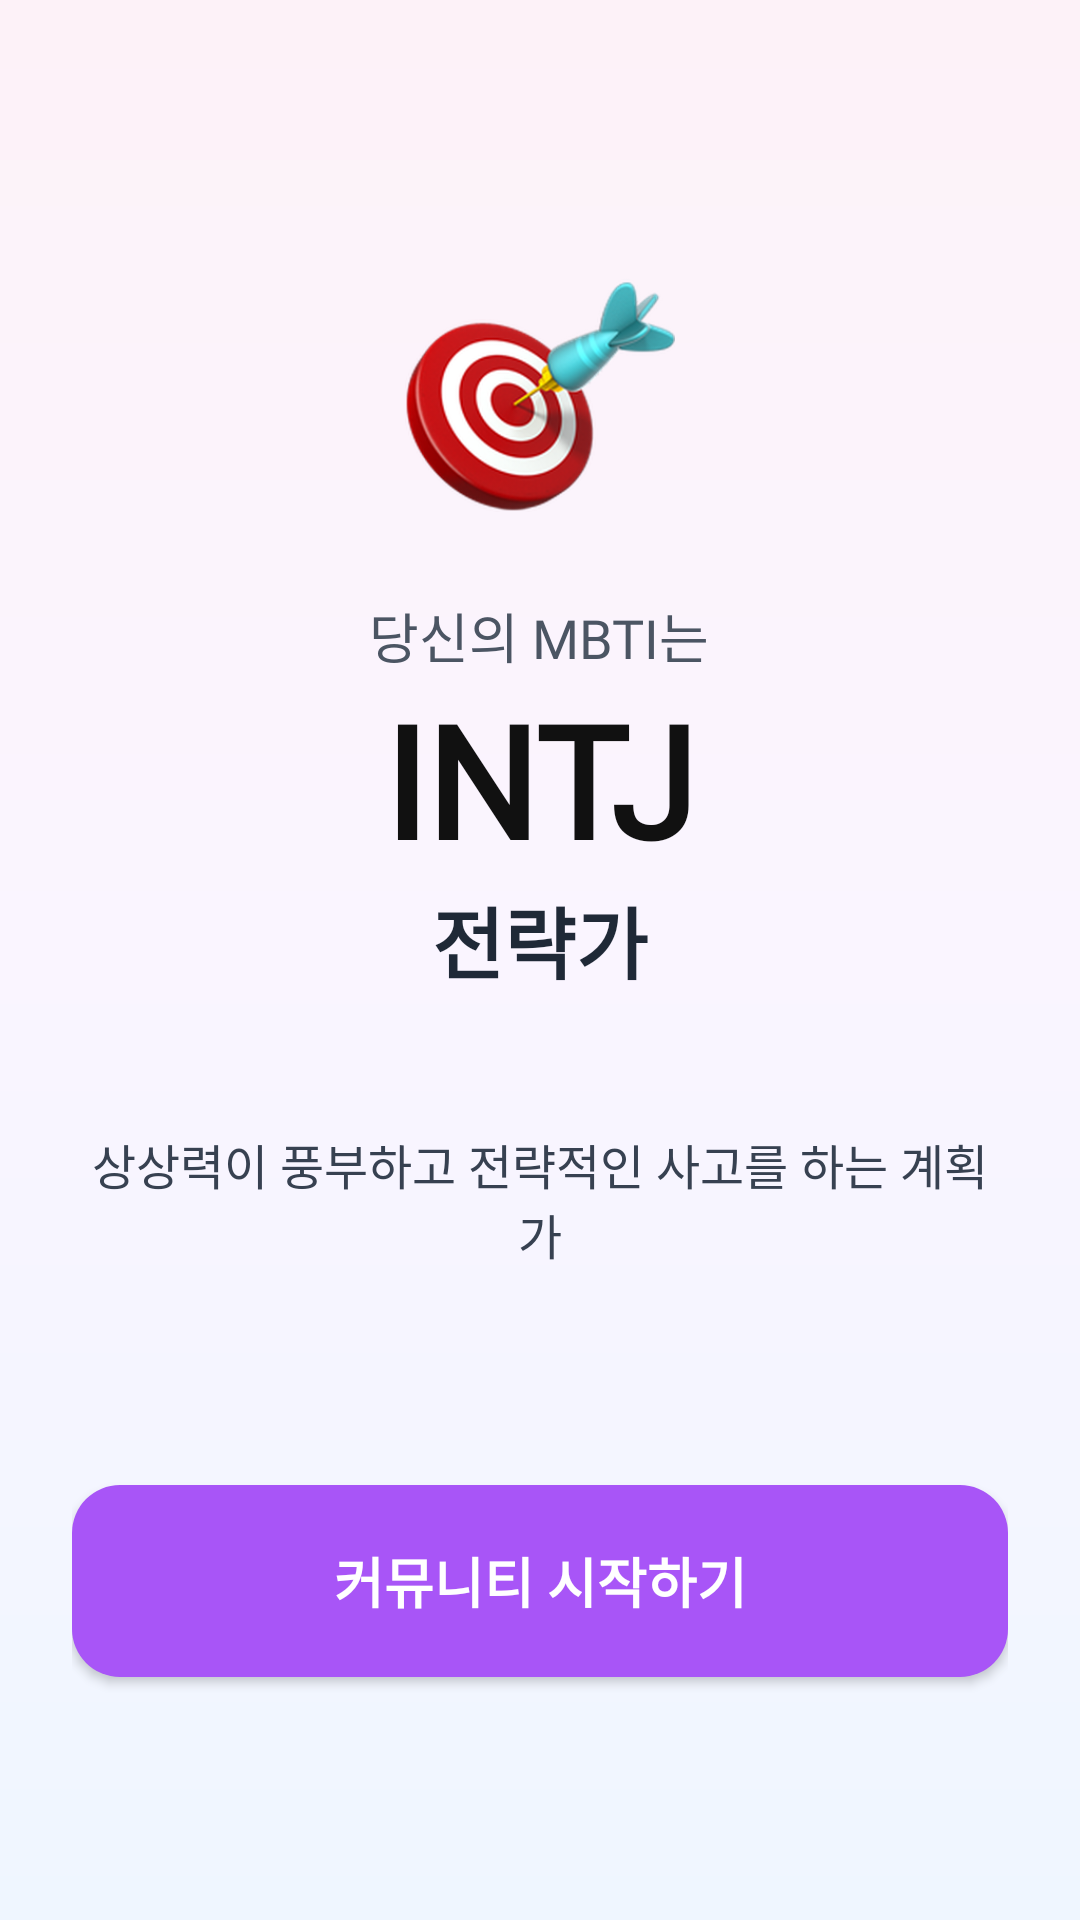

Named icons in this screenshot (1080px×1920px) and their bounding boxes, (x1, y1, x2, y2):
emoji intj: (406, 282, 675, 511)
